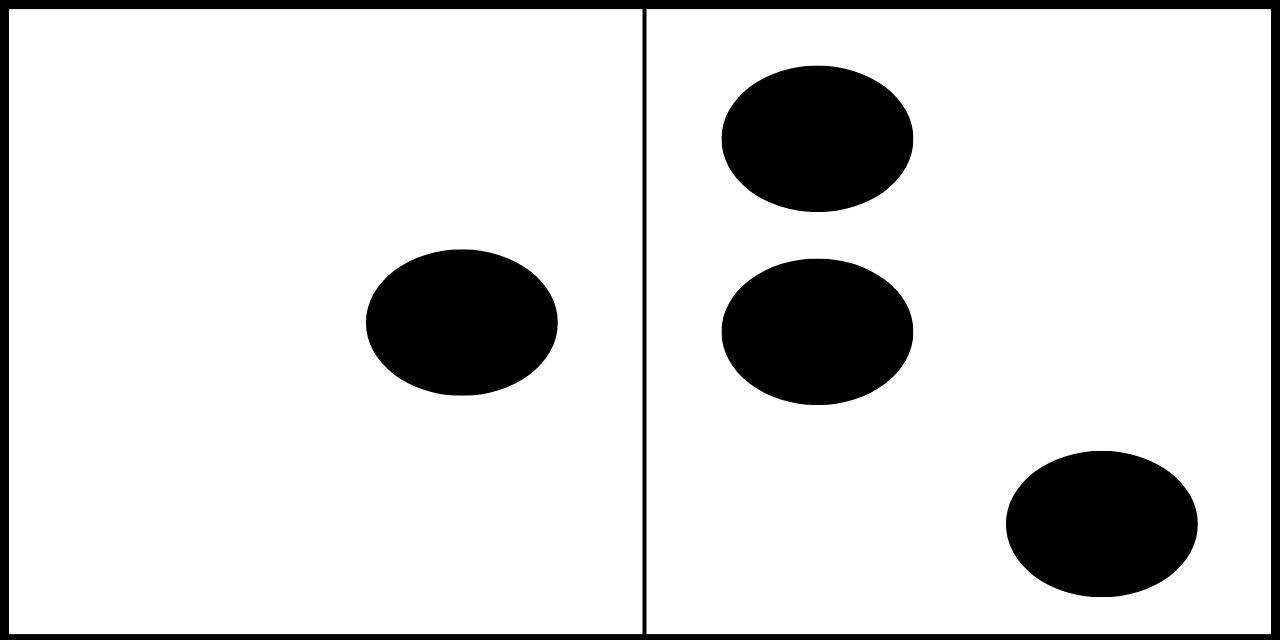dot_5: (93, 62, 561, 595)
two_cell_non_alphabet_ngunit: (720, 64, 1199, 596)
